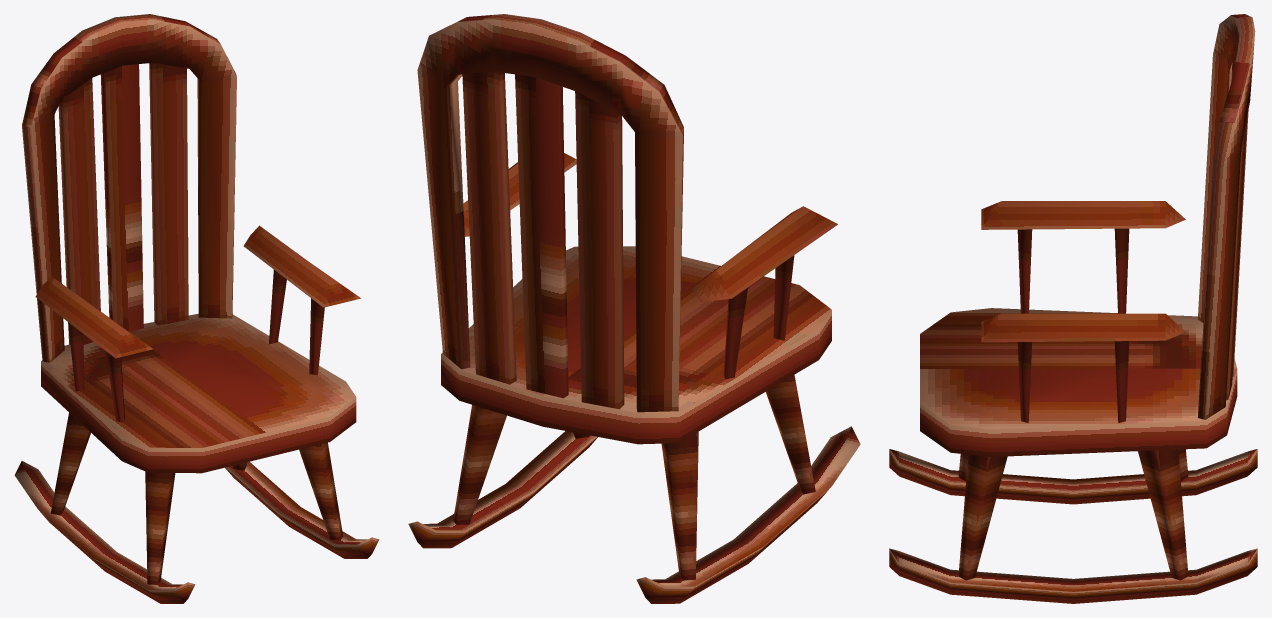
Rendered from int_oth_RchairS.dae.
3 views of the same model, side by side, from view 1: azimuth 30°, elevation 25°; view 2: azimuth 150°, elevation 25°; view 3: azimuth 270°, elevation 25° (orthographic). The views are drawn at different scales.
Parts seen in each view (by area): view 1: int_oth_RchairS; view 2: int_oth_RchairS; view 3: int_oth_RchairS.
Boxes of the visible parts, x1,y1,x2,y2 form: int_oth_RchairS: [14, 14, 379, 603]; int_oth_RchairS: [408, 14, 860, 603]; int_oth_RchairS: [889, 14, 1257, 603].
Bounding box in the file's own units: 24.6 × 45.1 × 28.8.
1 material, 1 textured.
